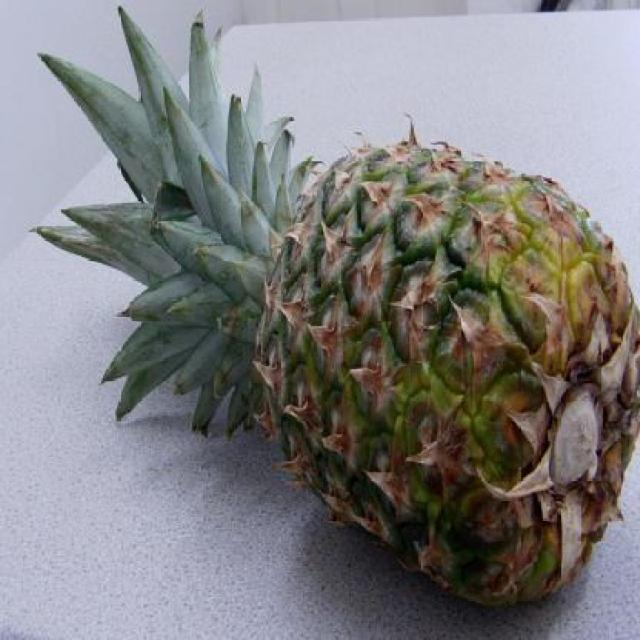Pineapple: (27, 2, 638, 610)
